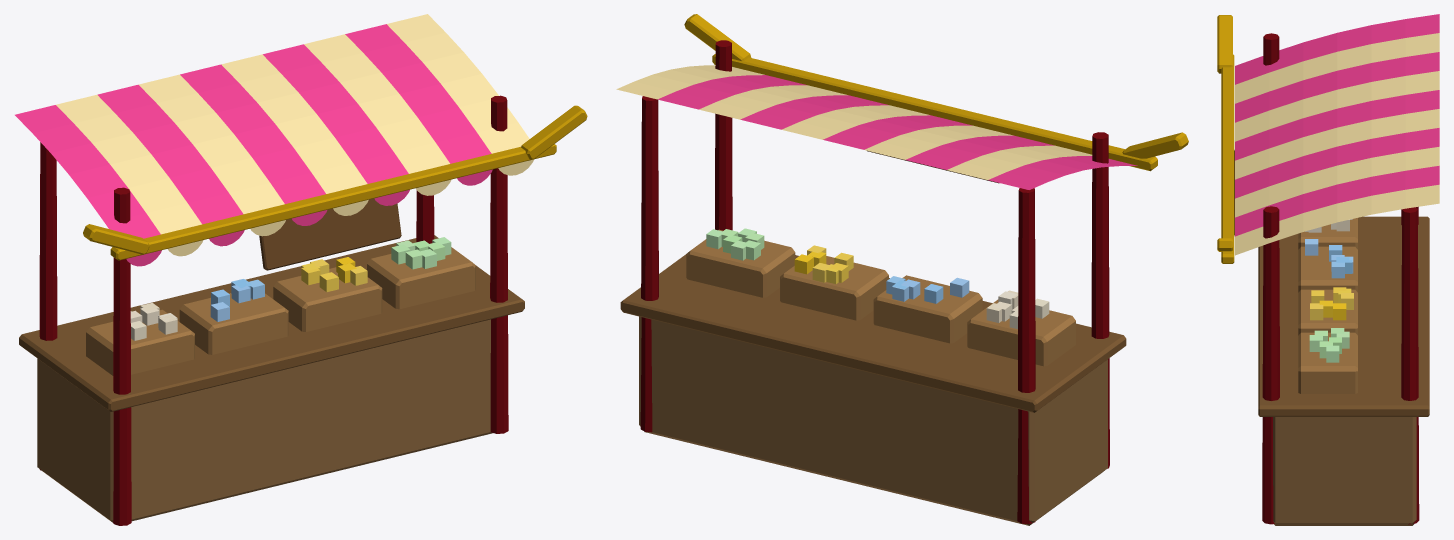
Rendered from stall_pets.glb.
3 renders of one model, left to right at view 1: azimuth 30°, elevation 25°; view 2: azimuth 150°, elevation 25°; view 3: azimuth 270°, elevation 25°, orthographic. The views are drawn at different scales.
Parts seen in each view (by area): view 1: stall_pets_wood, stall_pets_fabric, stall_pets_fruit, stall_pets_fruitMatte; view 2: stall_pets_wood, stall_pets_fabric, stall_pets_fruit, stall_pets_fruitMatte; view 3: stall_pets_wood, stall_pets_fabric, stall_pets_fruit, stall_pets_fruitMatte.
Part boxes in pixels (<box>): stall_pets_wood: <box>19,95,587,525</box>; stall_pets_fabric: <box>15,14,533,266</box>; stall_pets_fruit: <box>210,257,367,321</box>; stall_pets_fruitMatte: <box>130,237,451,340</box>; stall_pets_wood: <box>620,14,1188,525</box>; stall_pets_fabric: <box>616,65,1137,189</box>; stall_pets_fruit: <box>794,245,969,303</box>; stall_pets_fruitMatte: <box>706,228,1049,329</box>; stall_pets_wood: <box>1217,15,1429,525</box>; stall_pets_fabric: <box>1235,14,1439,255</box>; stall_pets_fruit: <box>1305,239,1353,320</box>; stall_pets_fruitMatte: <box>1305,219,1352,362</box>.
Size of the model in its own units: 4.1 by 2.75 by 1.68.
